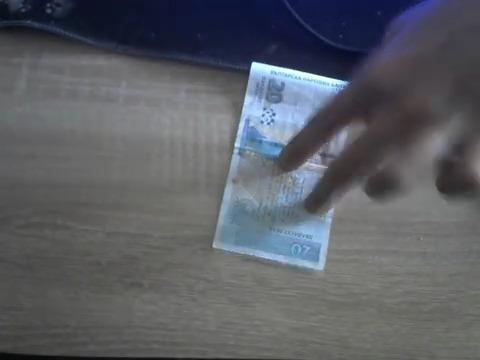20leva: (212, 62, 358, 272)
